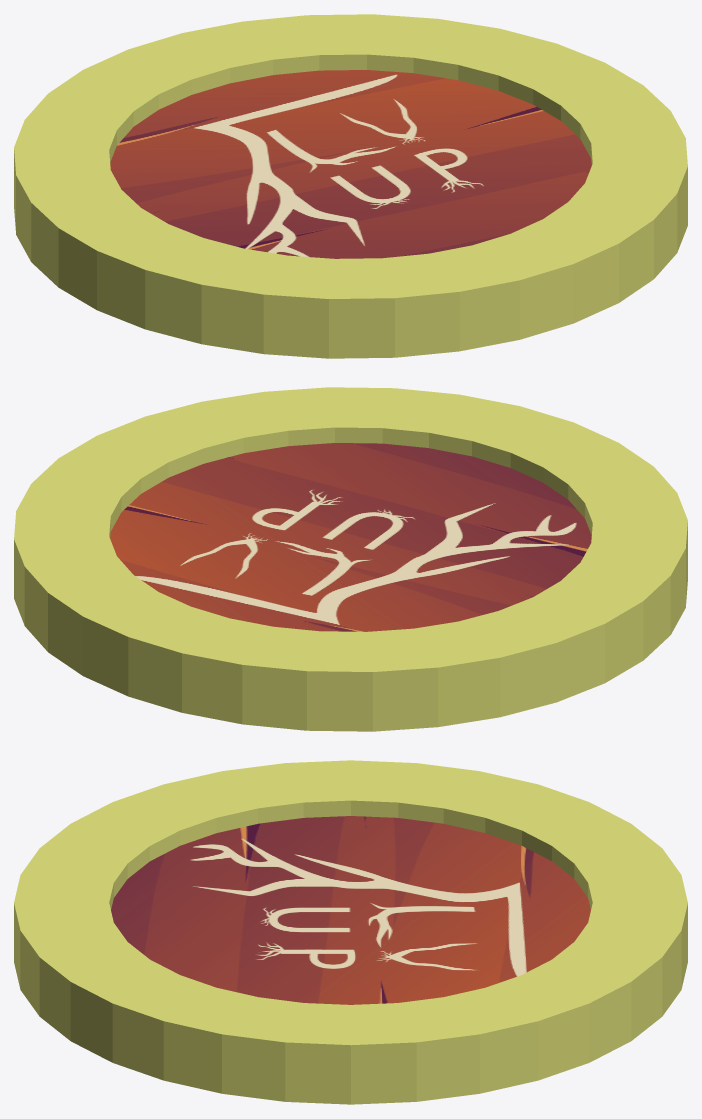
File: tes.fbx
The picture shows the model from 3 angles, top to bottom: view 1: azimuth 30°, elevation 25°; view 2: azimuth 150°, elevation 25°; view 3: azimuth 270°, elevation 25°; orthographic projection.
Parts seen in each view (by area): view 1: Cylinder; view 2: Cylinder; view 3: Cylinder.
Part boxes in pixels (box(x1,y1,x2,y2)): Cylinder: box(14, 14, 687, 358); Cylinder: box(14, 387, 687, 731); Cylinder: box(14, 760, 687, 1104).
Size of the model in its own units: 261 by 25.39 by 261.
Materials: 2 (1 with a texture image).
